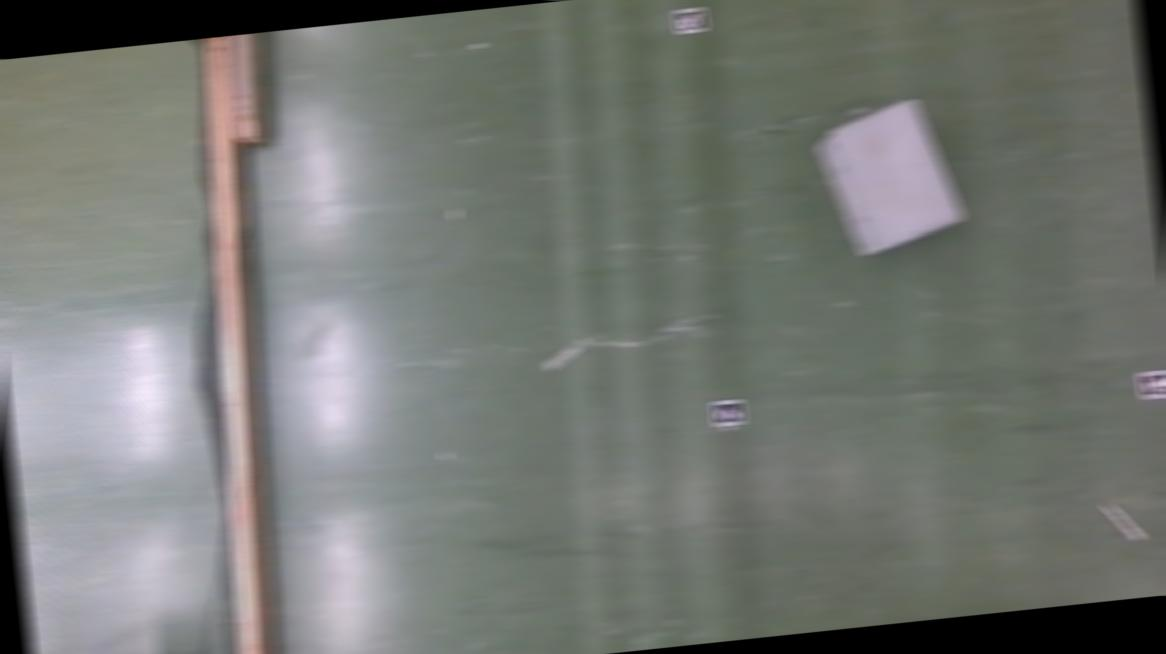probes: (1102, 501, 1140, 544), (541, 344, 583, 373)
rako: (810, 96, 968, 262)
